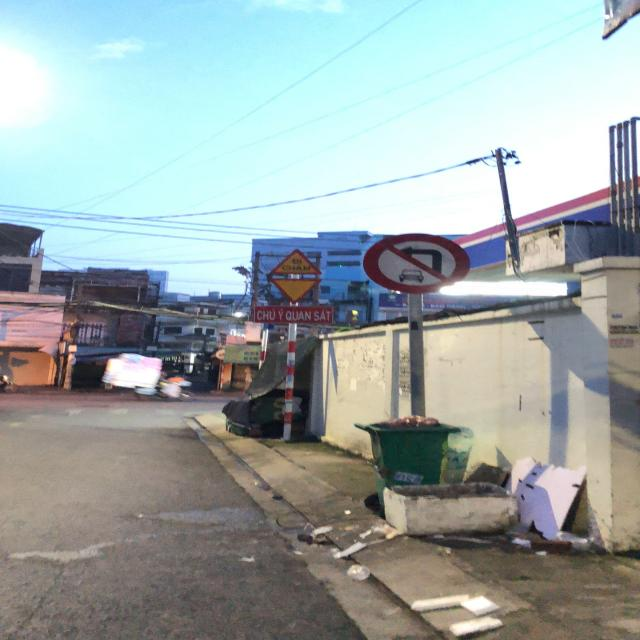Bien bao cam xe o to re trai: (357, 230, 481, 293)
Bien bao di cham: (266, 245, 332, 278)
Bien bao giao nhau voi duong uu tien: (265, 276, 331, 304)
